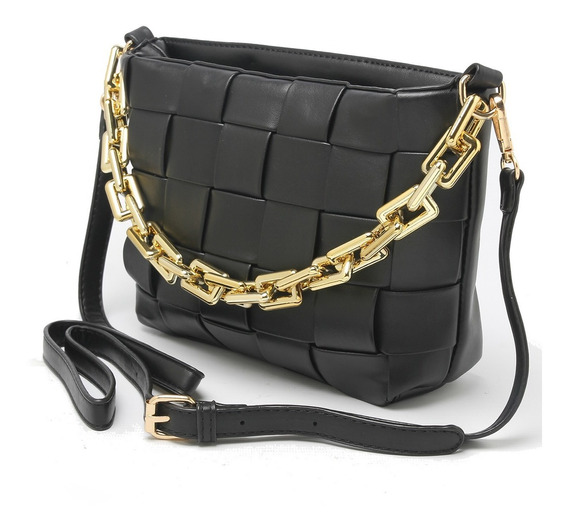cartera: (37, 24, 532, 460)
